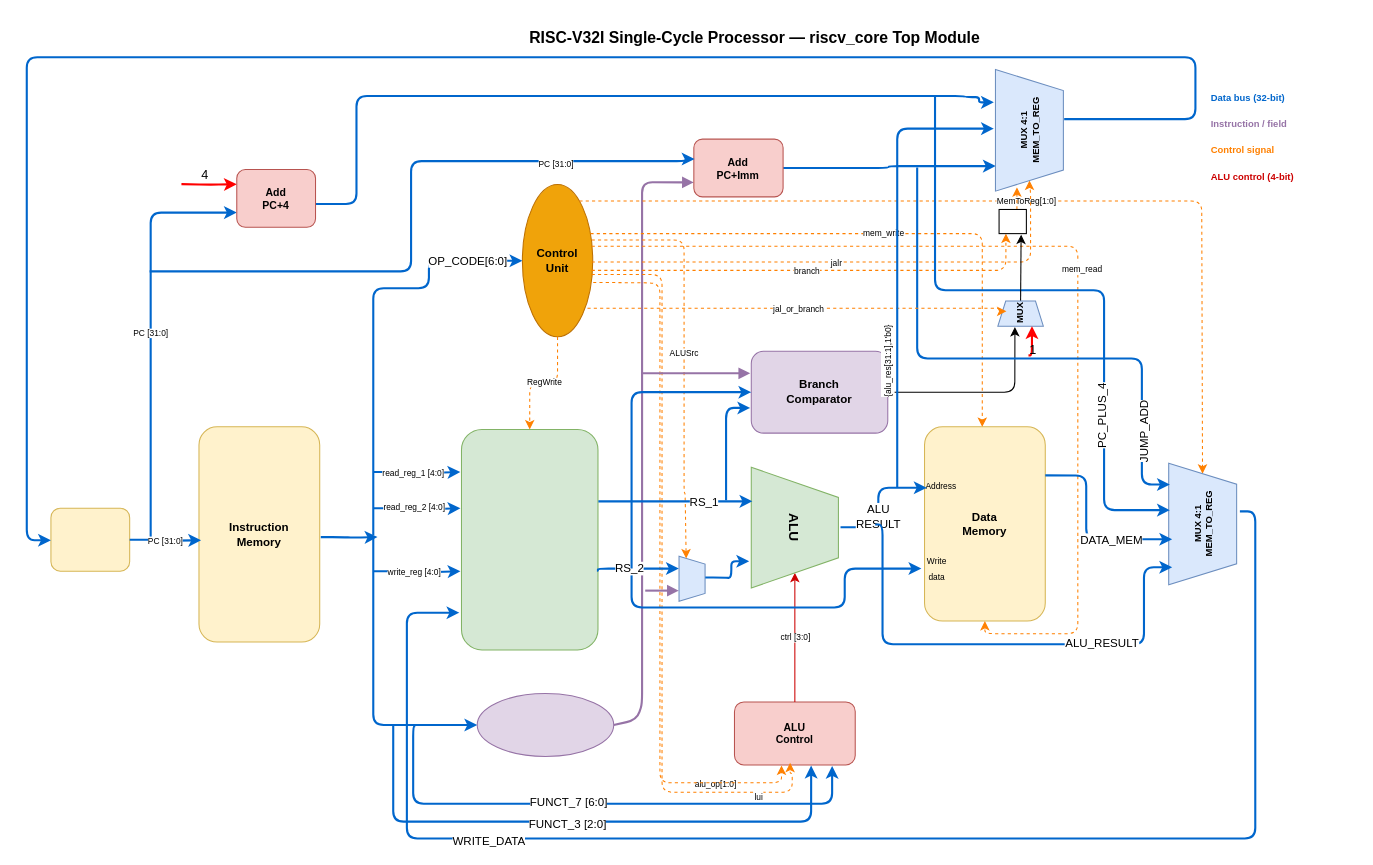
Image size: 1373x865. Some labels were removed from this diagram. The box of each missing label's shape, as (x1, y1, x2, y2) in pixels:
ALU SRC: (678, 555, 705, 601)
AND: (998, 208, 1026, 234)
Imm Gen: (476, 692, 614, 757)
PC: (50, 507, 130, 571)
Register File: (460, 428, 598, 650)
